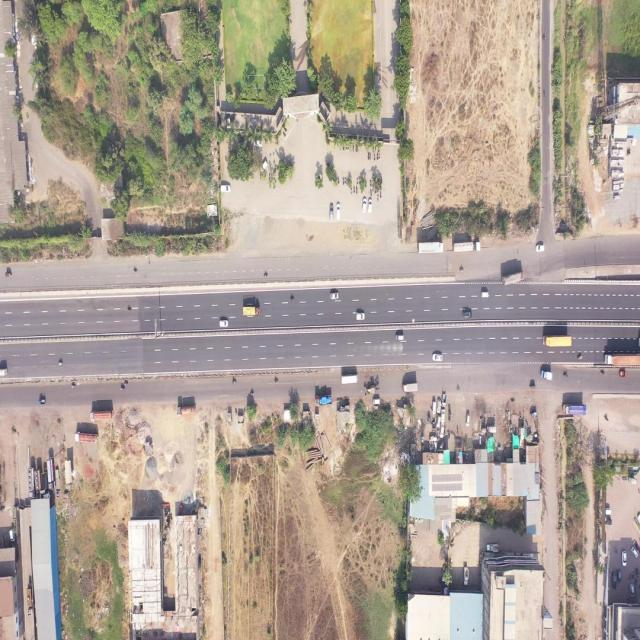3W: (486, 425, 497, 433), (620, 370, 627, 378), (530, 383, 536, 391), (38, 400, 46, 406), (5, 272, 12, 278), (530, 412, 538, 417)
Bus: (341, 374, 359, 384)
Cars: (611, 570, 617, 589), (432, 353, 443, 362), (336, 202, 341, 221), (253, 139, 263, 148), (440, 422, 445, 440), (356, 312, 365, 321), (622, 550, 627, 566), (631, 547, 638, 558), (436, 399, 441, 414), (260, 161, 268, 170), (220, 319, 228, 328), (329, 292, 338, 300), (463, 310, 472, 318), (221, 185, 231, 192), (605, 516, 612, 526), (629, 584, 634, 598), (466, 411, 470, 428), (368, 198, 372, 214), (481, 291, 490, 298), (536, 245, 545, 252), (362, 198, 366, 213), (618, 568, 622, 583), (605, 507, 612, 515), (432, 402, 436, 416), (373, 398, 380, 406), (396, 334, 404, 341), (10, 528, 14, 542), (330, 204, 333, 222), (637, 511, 640, 523)
LCV: (486, 543, 499, 553), (464, 566, 469, 586), (442, 394, 446, 407)
M2W: (627, 148, 631, 157), (577, 355, 583, 361), (376, 190, 379, 201), (337, 175, 340, 185), (369, 151, 372, 161), (459, 267, 464, 273), (562, 373, 568, 378), (284, 131, 288, 138), (605, 415, 609, 422), (379, 190, 382, 199), (369, 178, 372, 187), (378, 153, 381, 161), (323, 389, 329, 393), (274, 378, 278, 384), (127, 308, 131, 314), (355, 144, 357, 154), (600, 370, 604, 375), (233, 379, 237, 384), (120, 386, 124, 391), (71, 384, 75, 389), (58, 361, 62, 366), (370, 188, 372, 197), (353, 185, 355, 194), (350, 187, 352, 196), (270, 172, 272, 180), (368, 152, 370, 160), (374, 153, 376, 161), (264, 273, 268, 277), (250, 392, 254, 396), (124, 382, 128, 386), (372, 184, 374, 191), (356, 178, 358, 185), (342, 145, 344, 152), (346, 145, 348, 151), (348, 146, 350, 152), (352, 145, 354, 151), (291, 296, 294, 300), (374, 189, 376, 194), (343, 175, 344, 185), (377, 151, 378, 160), (260, 171, 261, 179), (269, 172, 270, 180), (134, 270, 138, 272), (347, 178, 348, 185)
MAV: (604, 354, 640, 366), (418, 242, 444, 255), (452, 241, 480, 253), (75, 430, 96, 446), (47, 458, 56, 490), (27, 466, 36, 498), (90, 410, 113, 421), (26, 589, 33, 616), (176, 406, 196, 415)
Truck: (543, 334, 572, 348), (502, 270, 524, 286), (562, 403, 586, 415), (242, 307, 260, 318), (315, 395, 332, 406), (402, 383, 418, 393), (541, 370, 554, 381)
